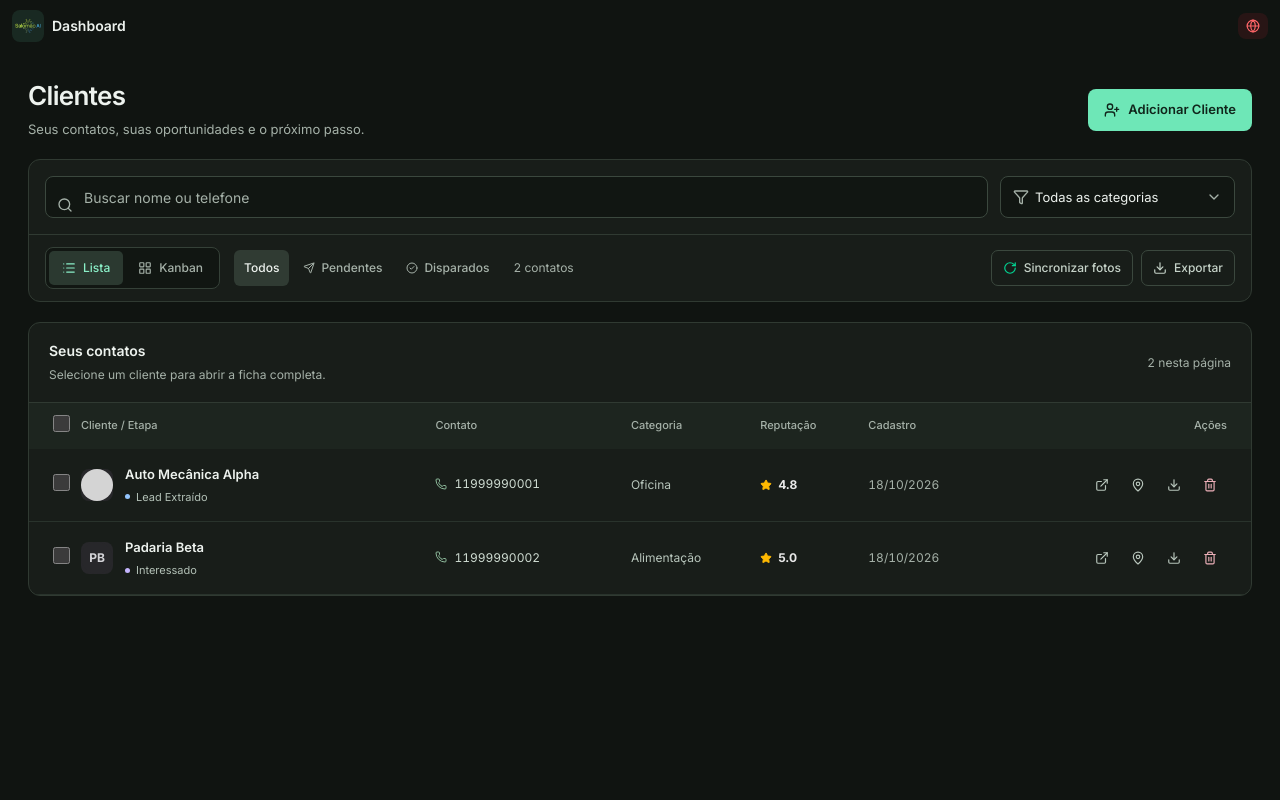
Test case: LeadsPage - Sincronização e Hidratação de Fotos › executa sincronização sequencial em lote com aria-live e atualiza leads sem fetchLeads total
Expected: the button "Auto Mecânica Alpha" is shown, 125,465 -> 259,484
Step 1. Click the button with aria-label "Sincronizar fotos de todos os leads" → [1062, 268], box 991,250 -> 1133,286
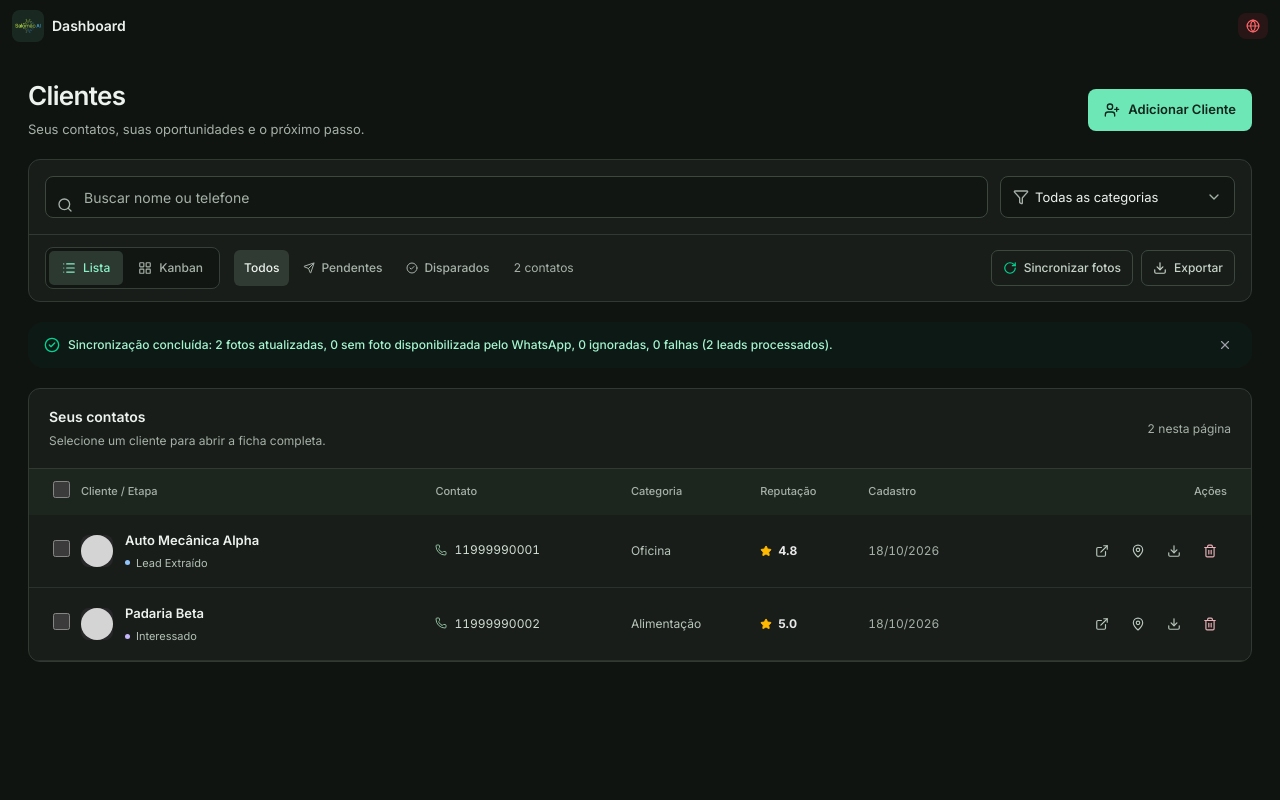
Result: the message is shown at 28,322 -> 1252,368
Result: the text "Sincronização concluída" is shown at 68,337 -> 833,352
